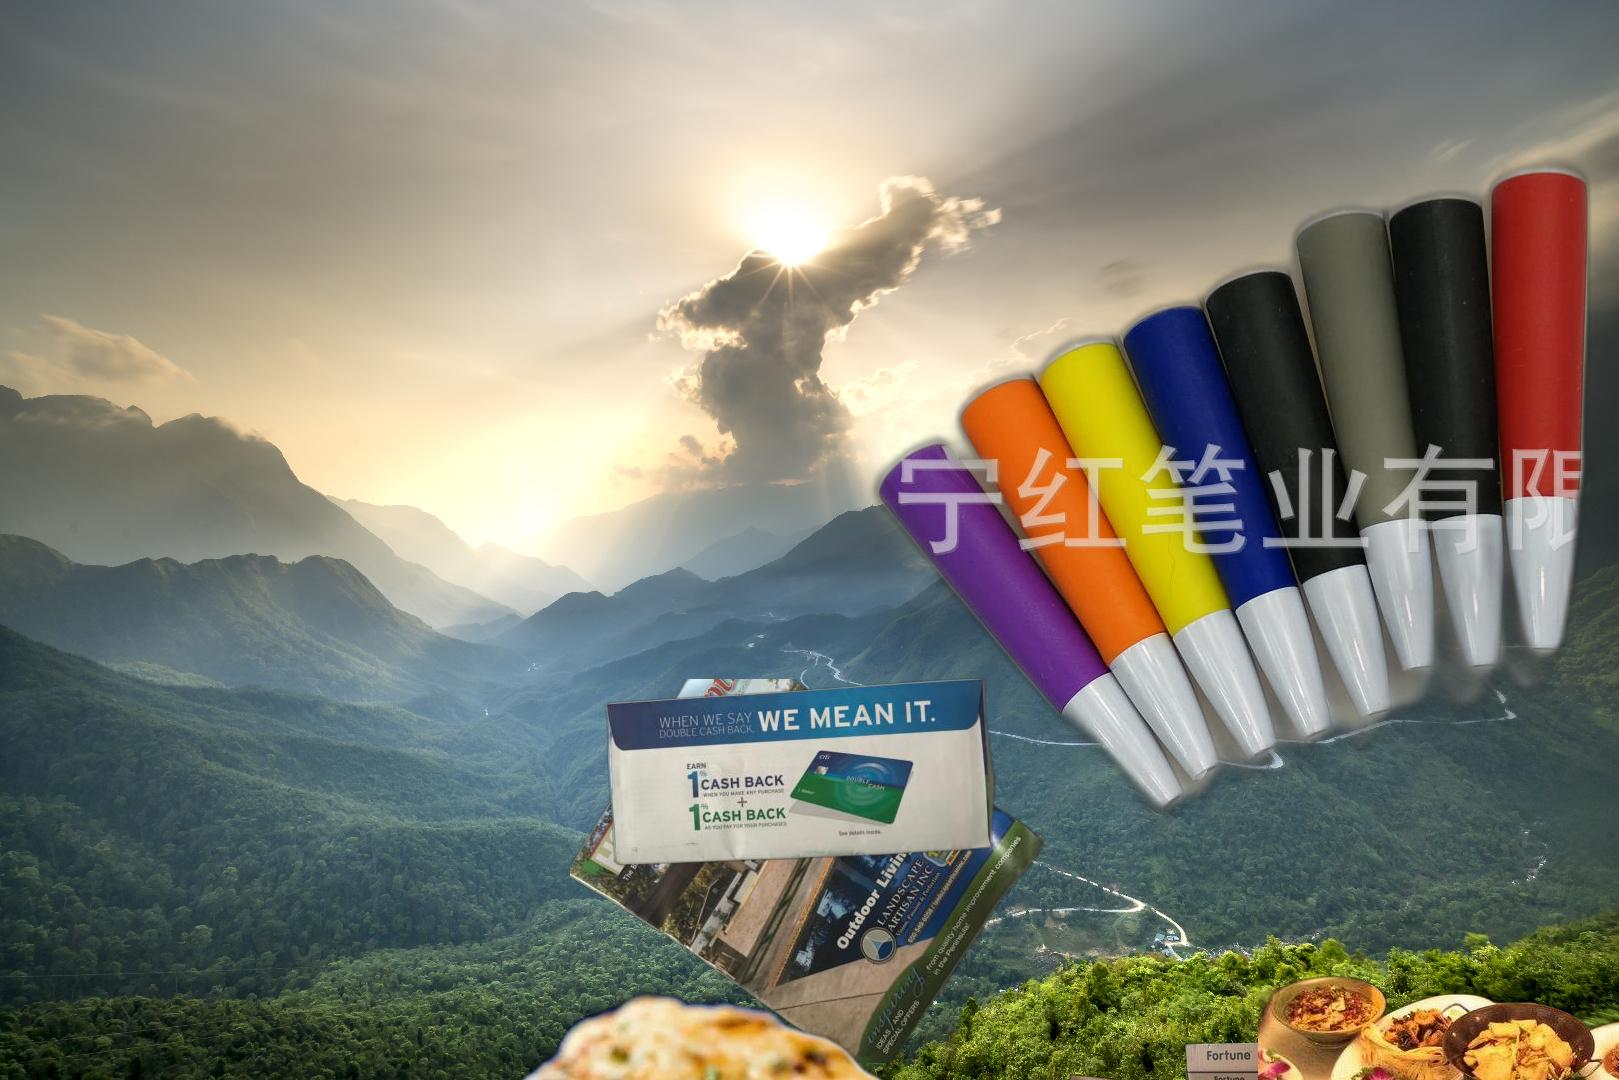biological: (516, 988, 1080, 1080), (1259, 973, 1619, 1080)
paper: (570, 679, 1049, 1063), (602, 676, 999, 868)
paper-bag: (989, 1072, 1132, 1080)
penholder: (854, 145, 1602, 846), (1212, 527, 1619, 1080)
trashbox-cardboard: (1178, 981, 1408, 1080)
